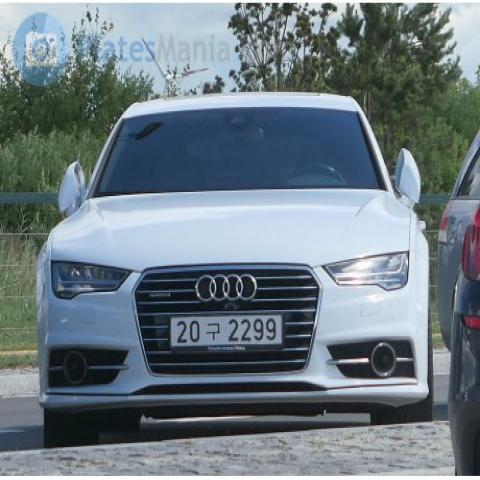LP: (162, 304, 291, 356)
